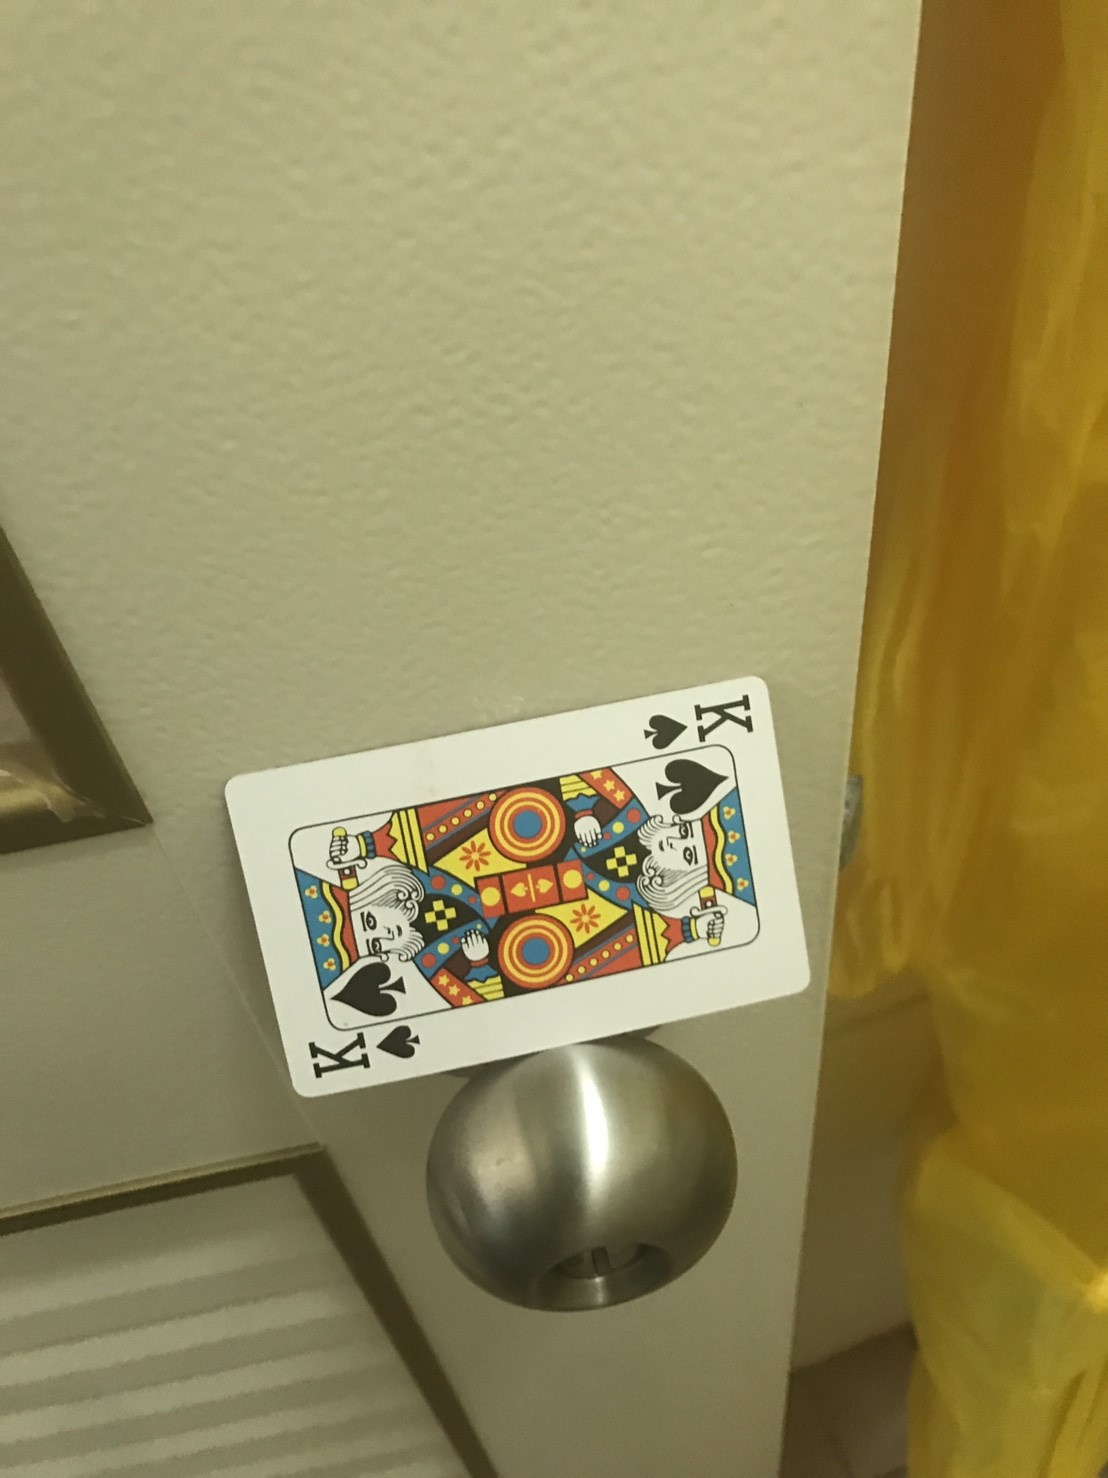spades: (324, 968, 412, 1016), (656, 756, 727, 812), (372, 1028, 432, 1064), (638, 709, 681, 747)
